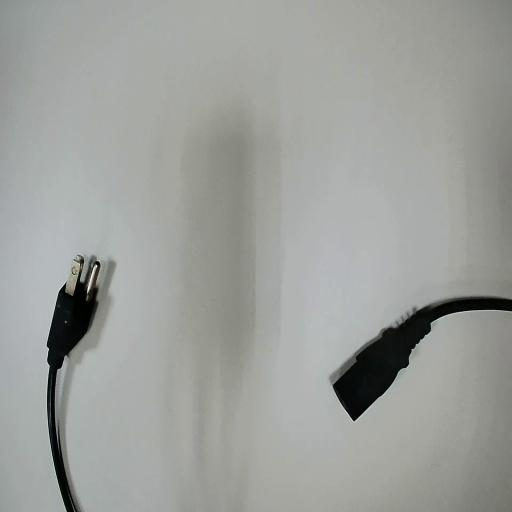wire: (334, 298, 511, 419), (48, 271, 97, 511)
